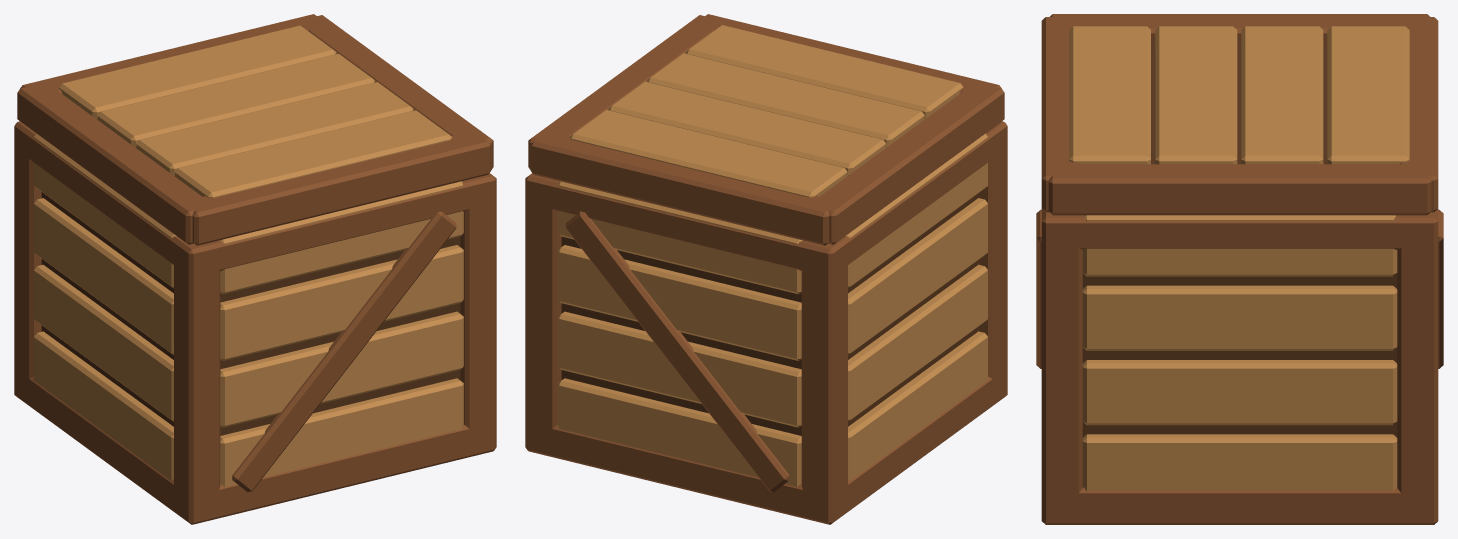
The model's file is myw_cratelid.glb.
3 renders of one model, left to right at view 1: azimuth 30°, elevation 25°; view 2: azimuth 150°, elevation 25°; view 3: azimuth 270°, elevation 25°, orthographic. The views are drawn at different scales.
Visible parts, largest first — view 1: Body, Lid; view 2: Body, Lid; view 3: Body, Lid.
Part boxes in pixels (x1,y1,x2,y2): Body: (14,121,496,524); Lid: (17,14,493,245); Body: (525,121,1007,524); Lid: (528,14,1004,245); Body: (1036,209,1443,524); Lid: (1041,14,1438,215).
Size of the model in its own units: 2.9 by 2.84 by 2.98.
